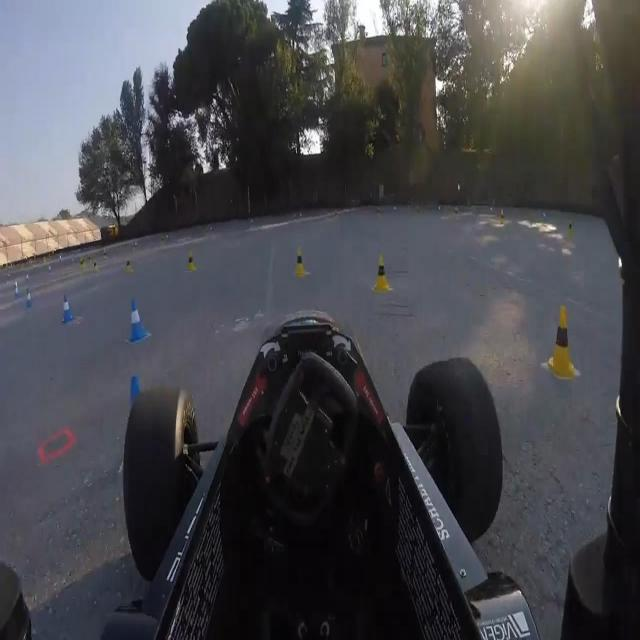blue_cone: (120, 369, 163, 490), (126, 296, 150, 347), (59, 290, 75, 327), (24, 288, 33, 310), (13, 282, 22, 302)
yellow_cone: (544, 301, 579, 382), (371, 252, 393, 298), (294, 247, 309, 278), (185, 248, 198, 274), (125, 255, 134, 275), (566, 220, 574, 240), (92, 258, 100, 275), (77, 257, 85, 274), (499, 208, 506, 226)
